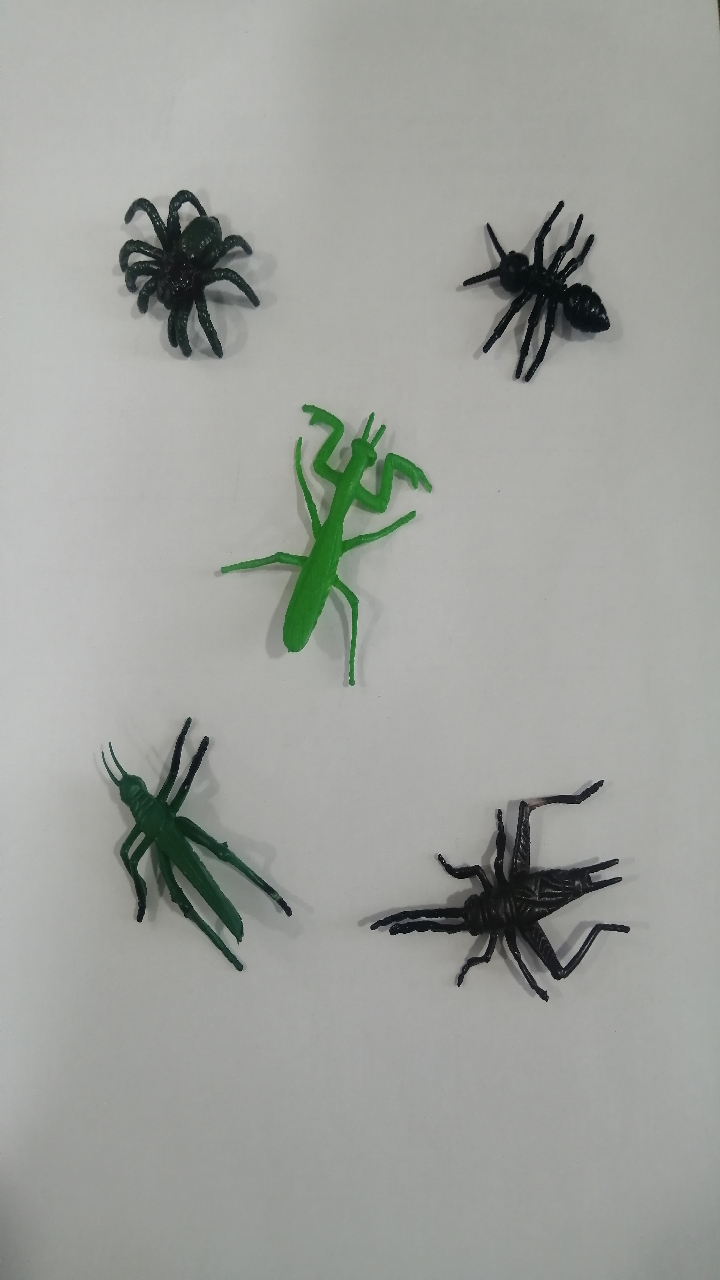intruso: (203, 383, 448, 717), (363, 748, 648, 1025), (54, 688, 312, 989), (71, 143, 277, 385), (441, 172, 626, 412)
